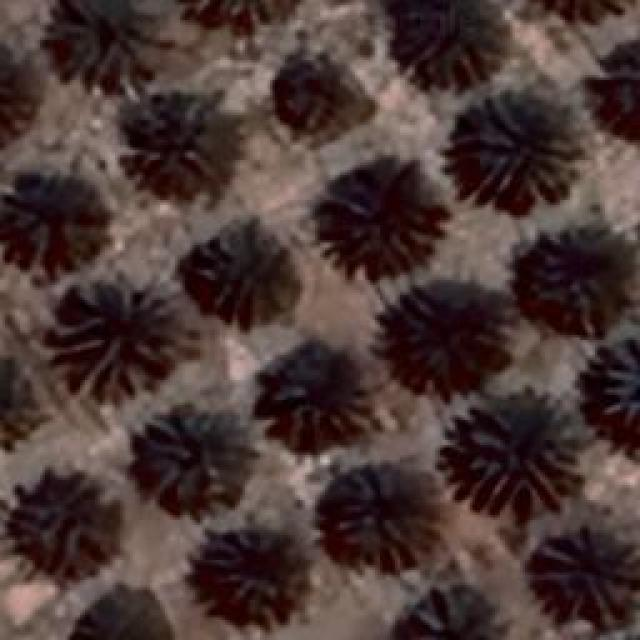PalmTree: (33, 32, 624, 103), (442, 390, 580, 510), (49, 275, 172, 403), (315, 469, 453, 569), (462, 92, 576, 200), (190, 217, 302, 325), (388, 286, 510, 382), (262, 344, 372, 448), (14, 472, 128, 572), (322, 156, 426, 259), (524, 231, 628, 334), (132, 402, 232, 508), (2, 172, 110, 270), (394, 0, 508, 88), (200, 528, 300, 628), (530, 524, 635, 618), (45, 0, 160, 85), (126, 98, 222, 192), (272, 57, 356, 135), (408, 582, 506, 640), (72, 587, 172, 640), (0, 48, 40, 142), (600, 335, 638, 430), (0, 358, 38, 449), (522, 0, 636, 20)
